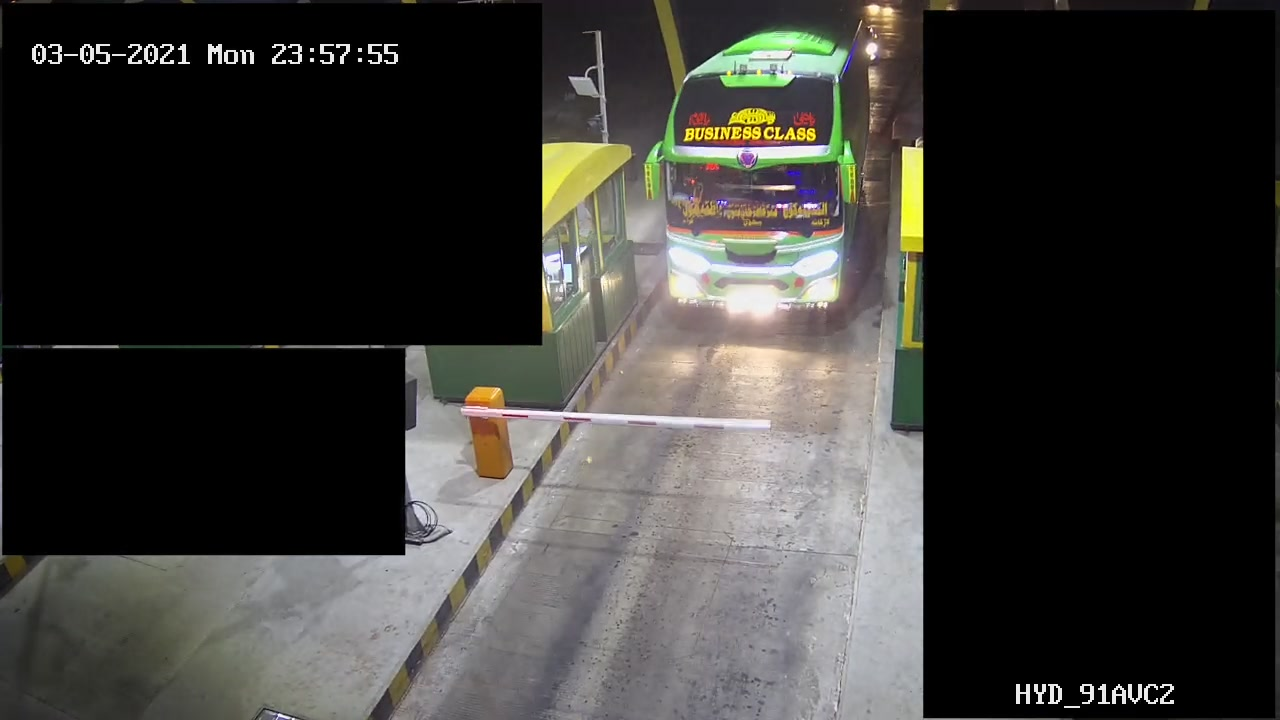F4: (657, 6, 887, 341)
